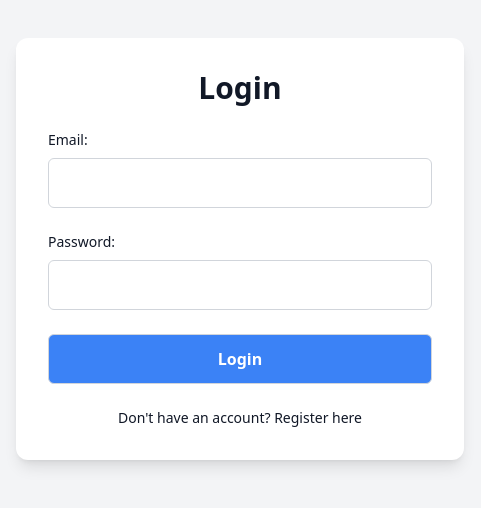
LoginPage › should display an error message on failed login
The image size is (481, 508).
Type "wrong@user.com" into the field labelled "Email:" at (240, 183), box [48,158,432,208]
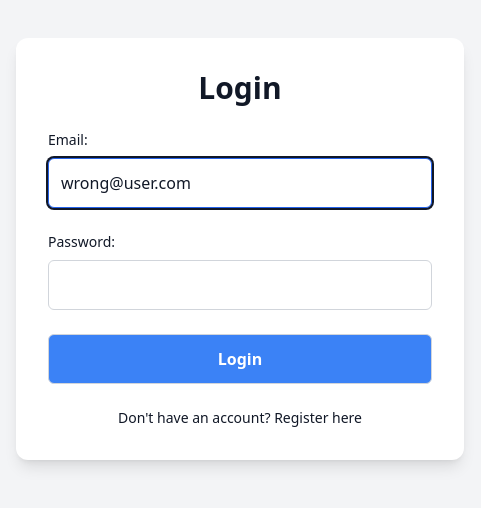
Type "wrongpassword" into the password field labelled "Password:" at (240, 285), box [48,260,432,310]
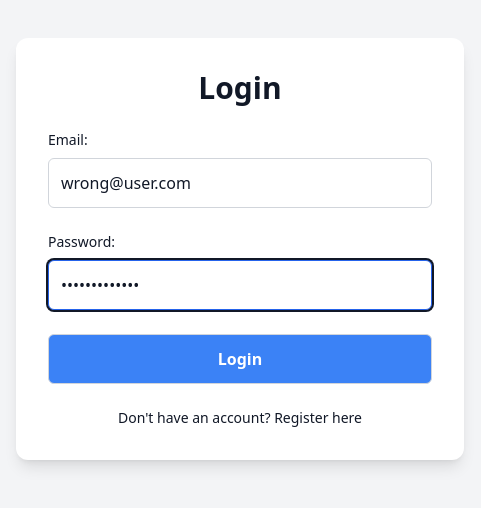
Click the button "Login" at (240, 359), box [48,334,432,384]
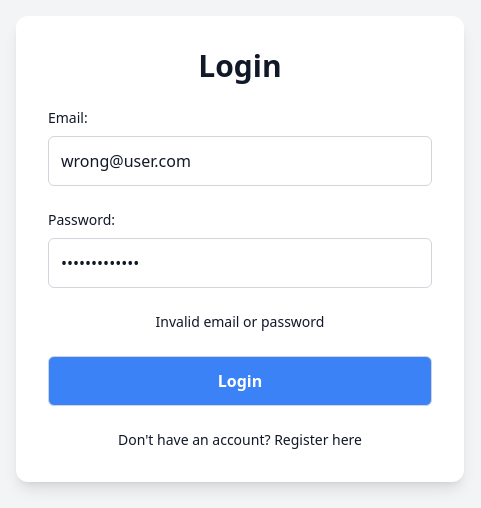
Now the text "Invalid email or password" is shown, box [156,312,324,331]
